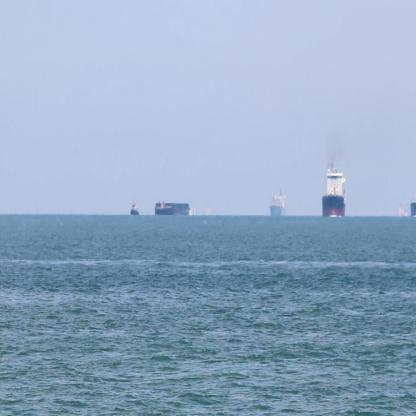Container Ship: (320, 154, 347, 217), (154, 197, 194, 217), (268, 182, 289, 217), (129, 191, 142, 216)
